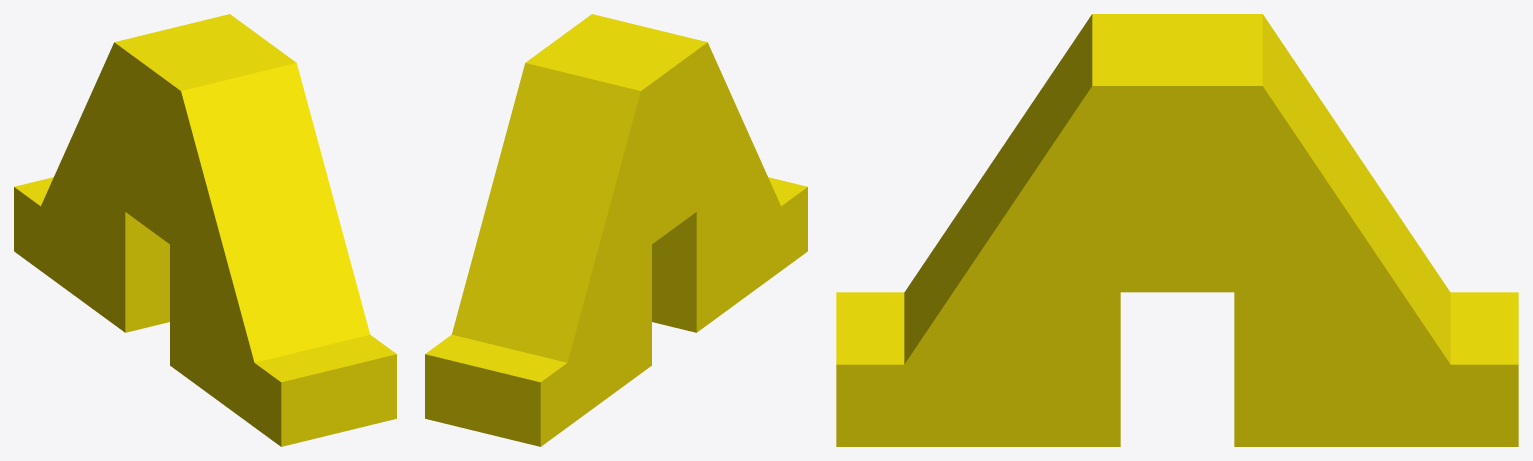
File: modelo_didático_14.glb
3 renders of one model, left to right at view 1: azimuth 30°, elevation 25°; view 2: azimuth 150°, elevation 25°; view 3: azimuth 270°, elevation 25°, orthographic. The views are drawn at different scales.
Visible parts, largest first — view 1: Modelo didatico 14.SLDPRT; view 2: Modelo didatico 14.SLDPRT; view 3: Modelo didatico 14.SLDPRT.
Boxes of the visible parts, x1,y1,x2,y2 form: Modelo didatico 14.SLDPRT: [14, 14, 396, 446]; Modelo didatico 14.SLDPRT: [425, 14, 807, 446]; Modelo didatico 14.SLDPRT: [836, 14, 1518, 446].
Size of the model in its own units: 0.015 by 0.035 by 0.06.
